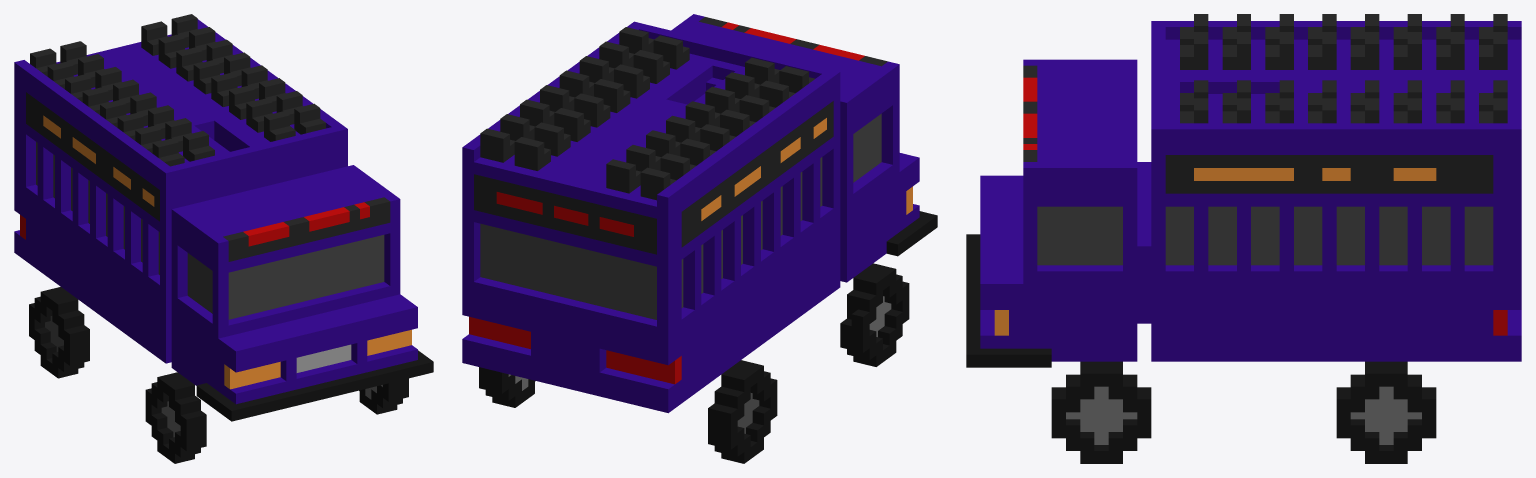
Rendered from purple_trucks.vox.obj.
3 renders of one model, left to right at view 1: azimuth 30°, elevation 25°; view 2: azimuth 150°, elevation 25°; view 3: azimuth 270°, elevation 25°, orthographic. The views are drawn at different scales.
Bounding box in the file's own units: 2.2 × 2.6 × 3.9.
1 material, 1 textured.
